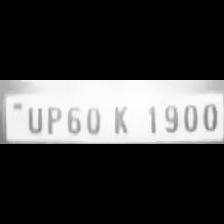0: (82, 103, 104, 135), (198, 100, 220, 132), (180, 100, 200, 132)
1: (139, 101, 159, 135)
6: (62, 103, 82, 135)
9: (158, 102, 180, 134)
K: (106, 102, 134, 136)
P: (42, 103, 62, 135)
U: (22, 102, 44, 134)
